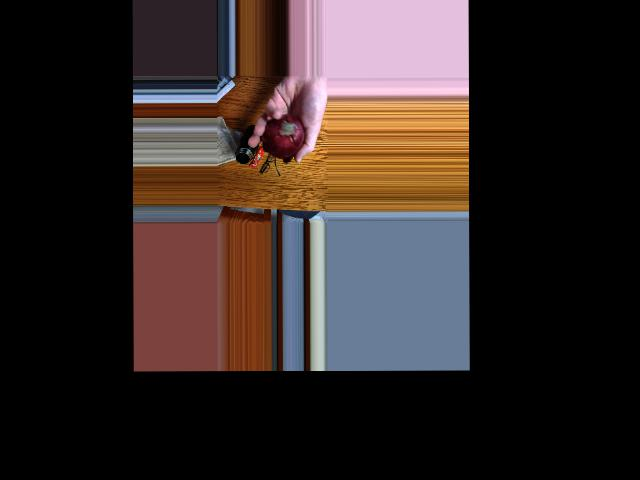onion: (269, 109, 305, 156)
